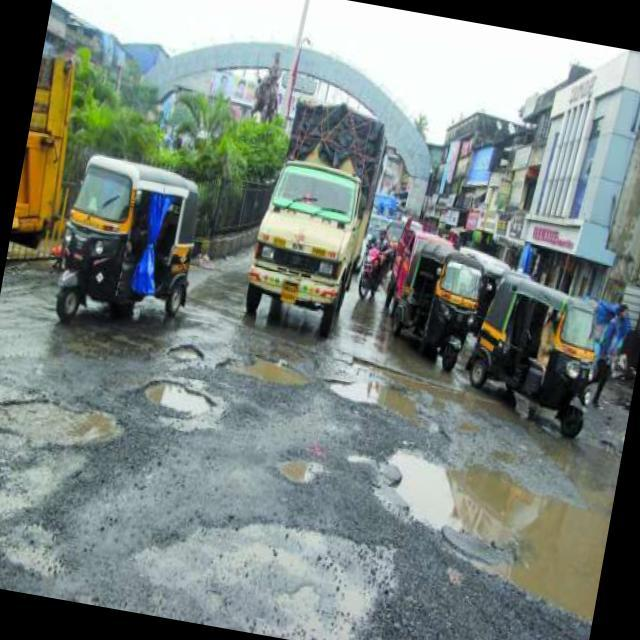Pothole: (332, 422, 619, 638), (110, 492, 412, 640), (0, 375, 133, 473), (321, 357, 433, 427), (130, 368, 222, 432), (214, 350, 314, 394), (271, 438, 328, 493), (163, 333, 209, 375)
